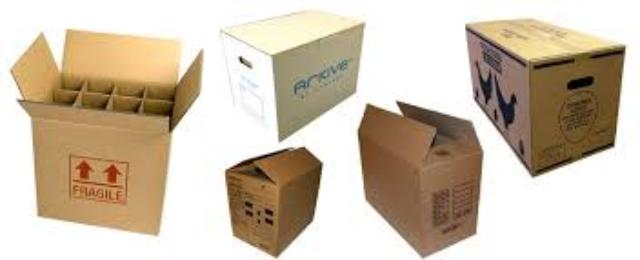cardboard paper: (9, 27, 198, 229), (464, 16, 622, 169), (356, 100, 478, 253), (218, 9, 360, 136), (224, 145, 318, 253)
